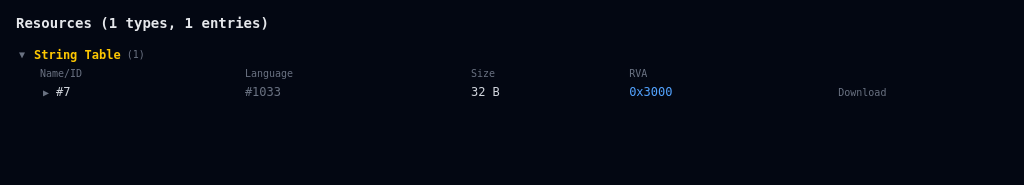
it: ResourcesView — leaf previews › previews a type with no dedicated arm as hex and ASCII
Click the button named "▶#7". click: (55, 92)
box: [40, 84, 70, 100]
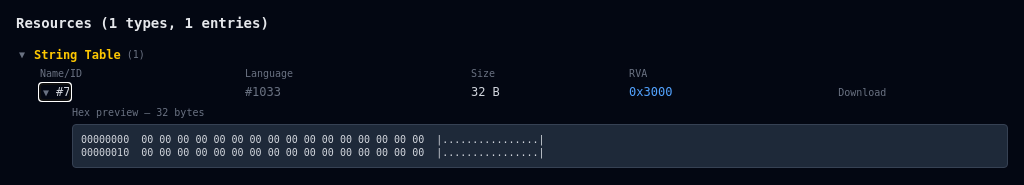
expect the row that starts with "Hex preview — 32 bytes" shows "00 00 00 00": met, box [81, 134, 545, 158]
